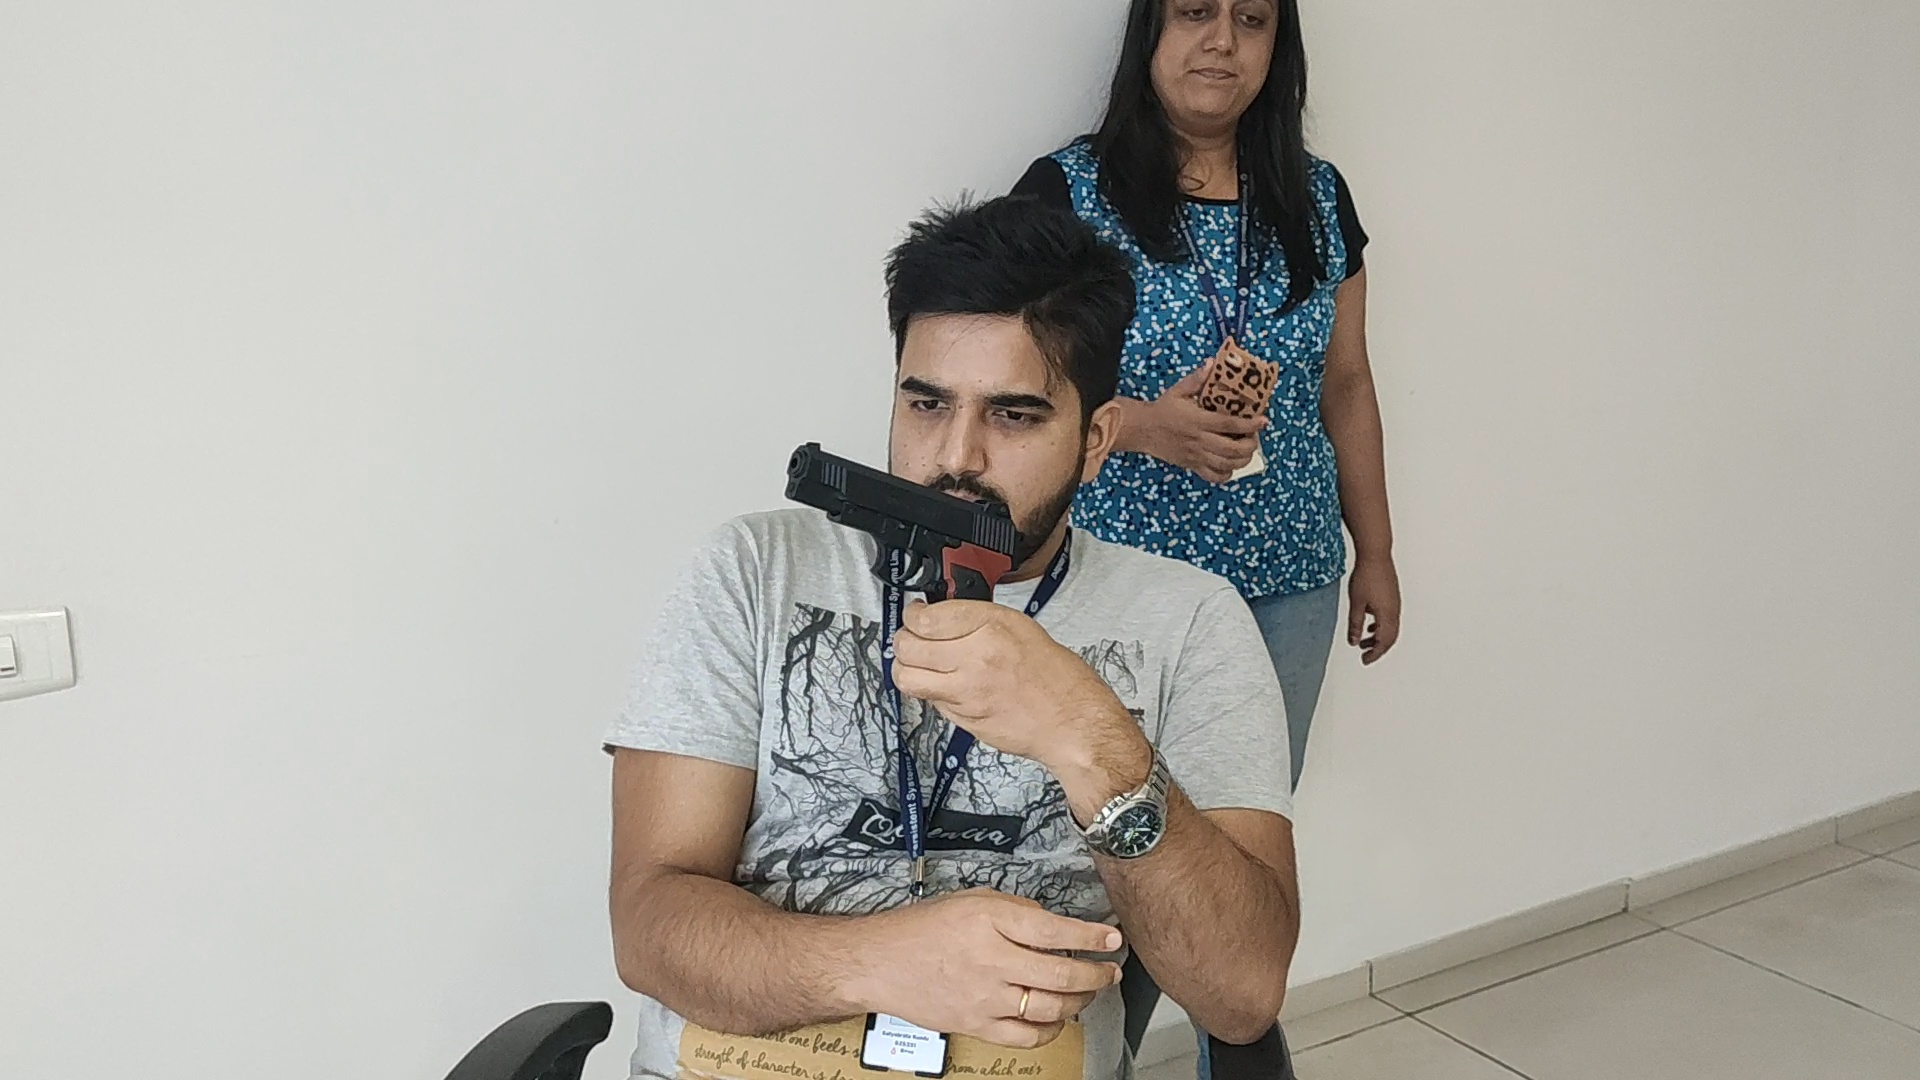gun: (783, 454, 1021, 597)
